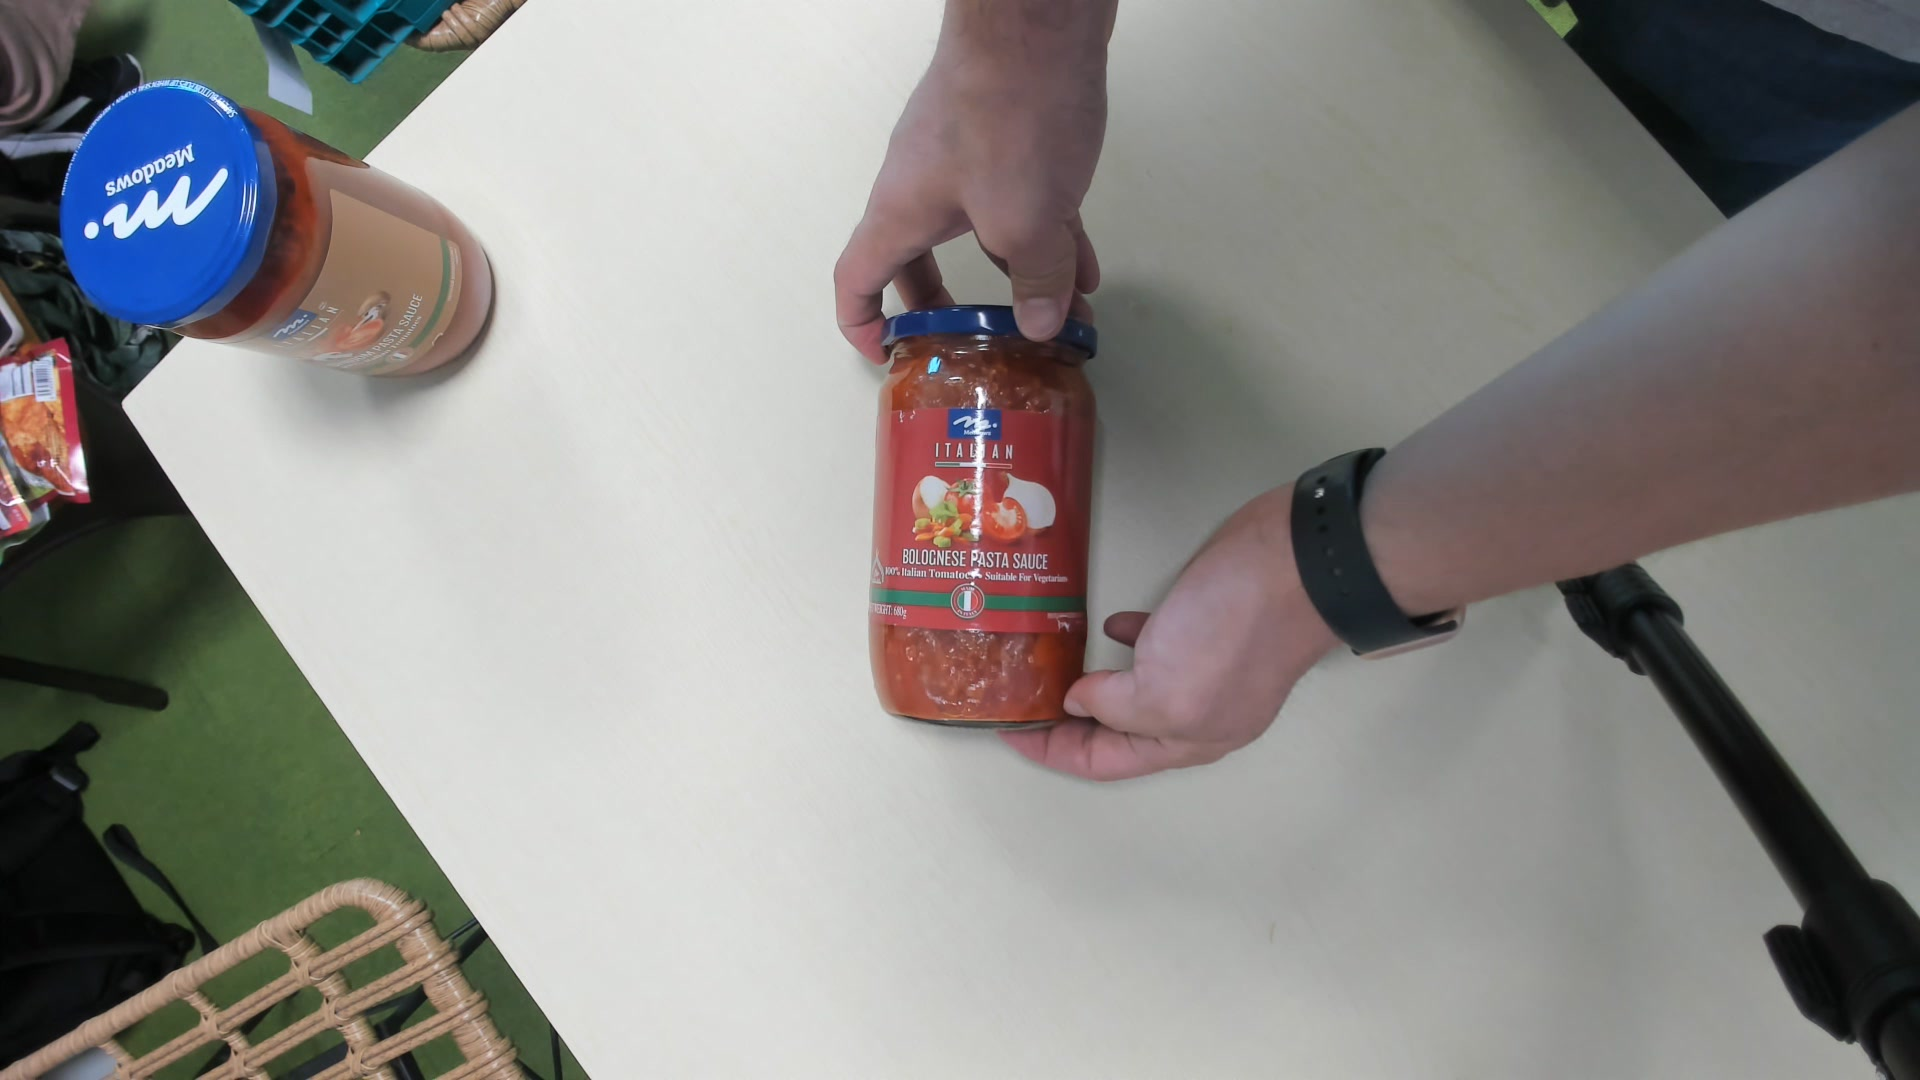PastaSauce_600-699g_Halal_NonHealthy: (866, 301, 1098, 735)
